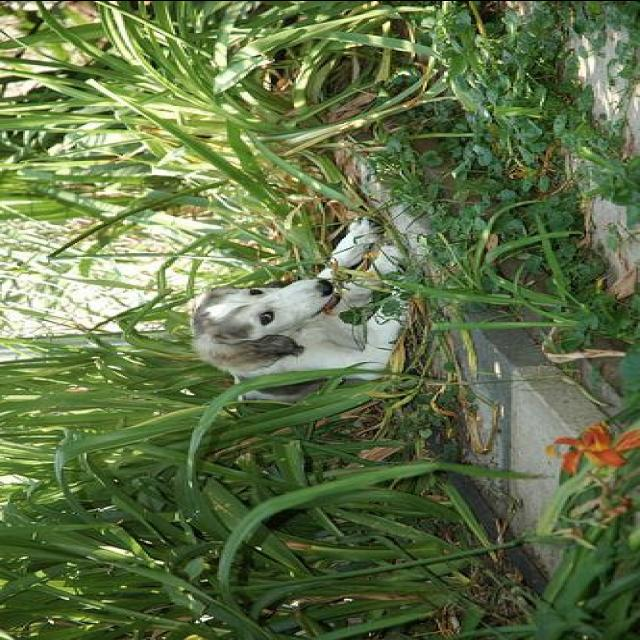saluki: (182, 216, 410, 421)
